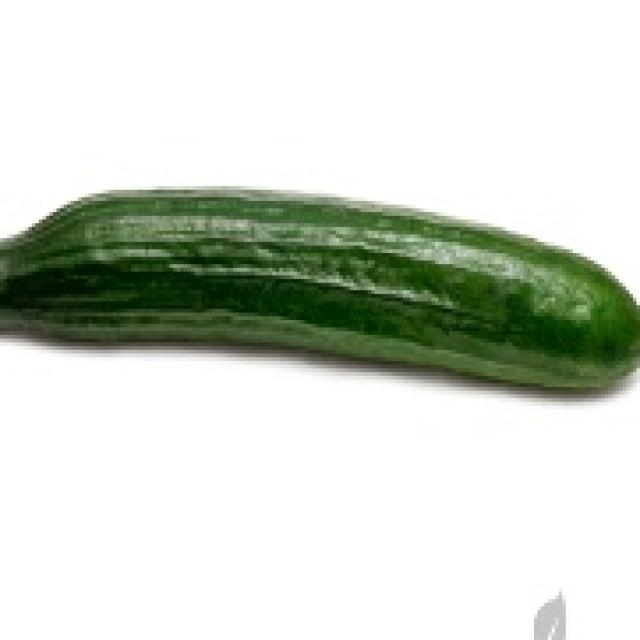cucumber: (0, 182, 640, 413)
